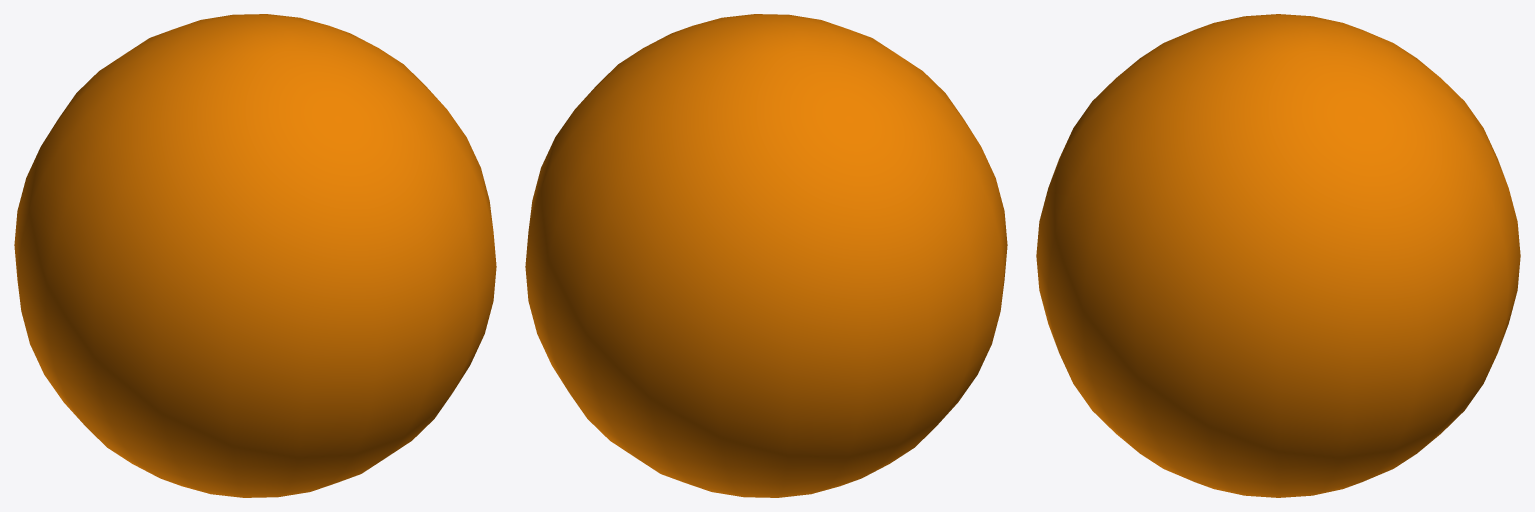
The model's file is Jump_Giver_backerer.fbx.
The picture shows the model from 3 angles, left to right: view 1: azimuth 30°, elevation 25°; view 2: azimuth 150°, elevation 25°; view 3: azimuth 270°, elevation 25°; orthographic projection.
Parts seen in each view (by area): view 1: pSphere2; view 2: pSphere2; view 3: pSphere2.
Boxes of the visible parts, x1,y1,x2,y2 form: pSphere2: [14, 14, 496, 497]; pSphere2: [525, 14, 1007, 497]; pSphere2: [1036, 14, 1520, 497].
Bounding box in the file's own units: 4.11 × 4.11 × 4.11.
